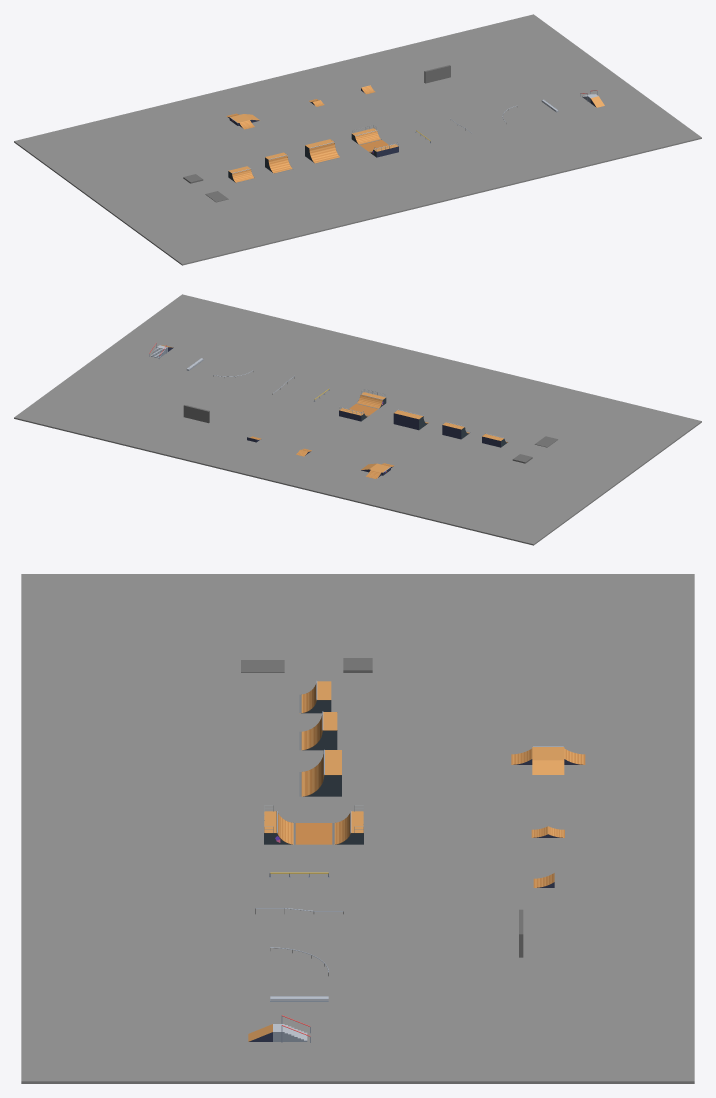
File: greybox.glb
3 renders of one model, top to bottom at view 1: azimuth 30°, elevation 25°; view 2: azimuth 150°, elevation 25°; view 3: azimuth 270°, elevation 25°, orthographic. The views are drawn at different scales.
Visible parts, largest first — view 1: Concrete_GroundE-col, Concrete_GroundW-col, Wood_QuarterPipe_03-col; view 2: Concrete_GroundE-col, Concrete_GroundW-col, Wood_QuarterPipe_03-col; view 3: Concrete_GroundE-col, Concrete_GroundW-col, Wood_QuarterPipe_03-col, PipeFloor_01.
Boxes of the visible parts, x1,y1,x2,y2 form: Concrete_GroundE-col: (52, 14, 701, 256); Concrete_GroundW-col: (14, 135, 207, 265); Wood_QuarterPipe_03-col: (305, 139, 339, 163); Concrete_GroundE-col: (14, 294, 663, 536); Concrete_GroundW-col: (508, 415, 701, 545); Wood_QuarterPipe_03-col: (393, 410, 428, 430); Concrete_GroundE-col: (21, 611, 694, 1083); Concrete_GroundW-col: (21, 574, 694, 598); Wood_QuarterPipe_03-col: (301, 750, 341, 796); PipeFloor_01: (295, 823, 332, 844).
Size of what is drawn, in the model's own units: 164 by 3.9 by 92.
